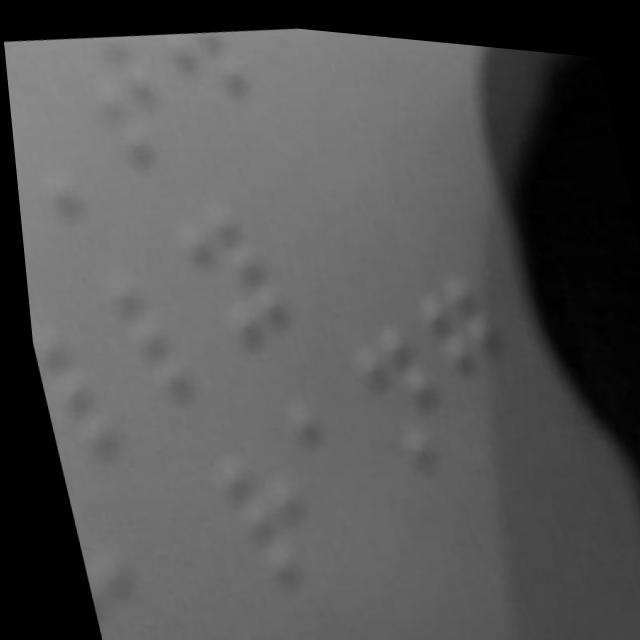braiile: (410, 252, 557, 448), (172, 181, 308, 358), (197, 426, 327, 594), (341, 300, 459, 476), (105, 256, 232, 411)
